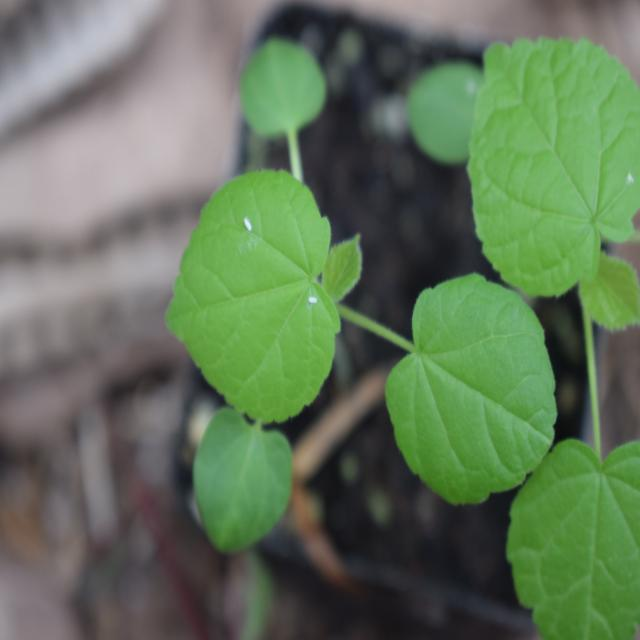abutilon theophrasti: (156, 77, 578, 527)
